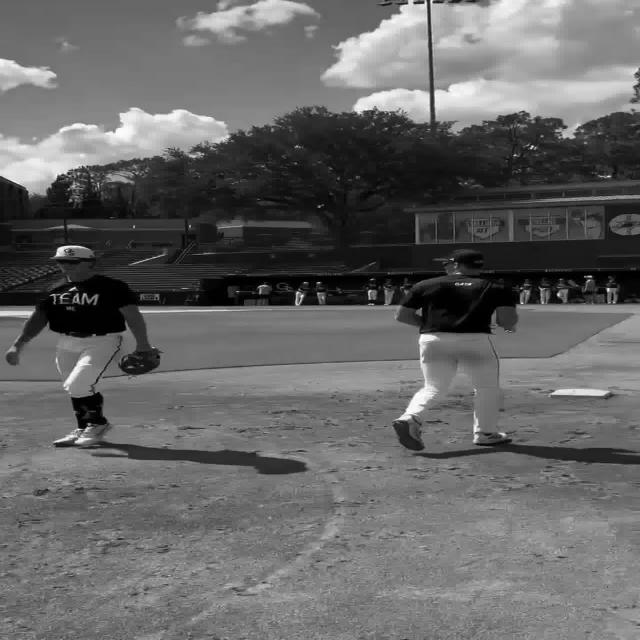base: (549, 389, 613, 399)
baseball_glove: (118, 348, 162, 375)
shoe: (393, 415, 425, 451), (73, 424, 109, 446), (53, 429, 84, 448), (473, 431, 511, 446)
